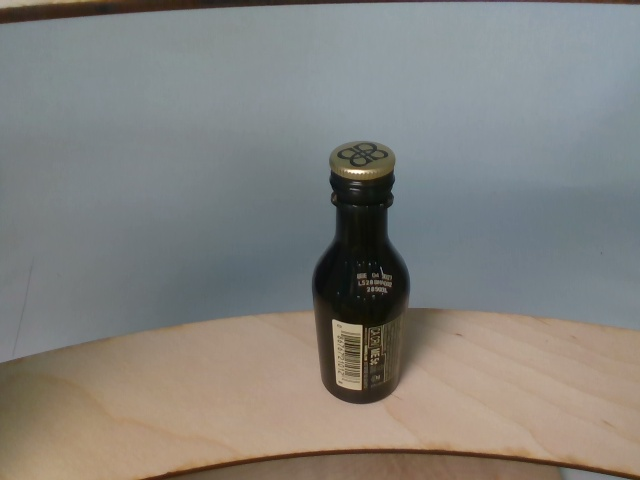coke: (313, 140, 411, 406)
